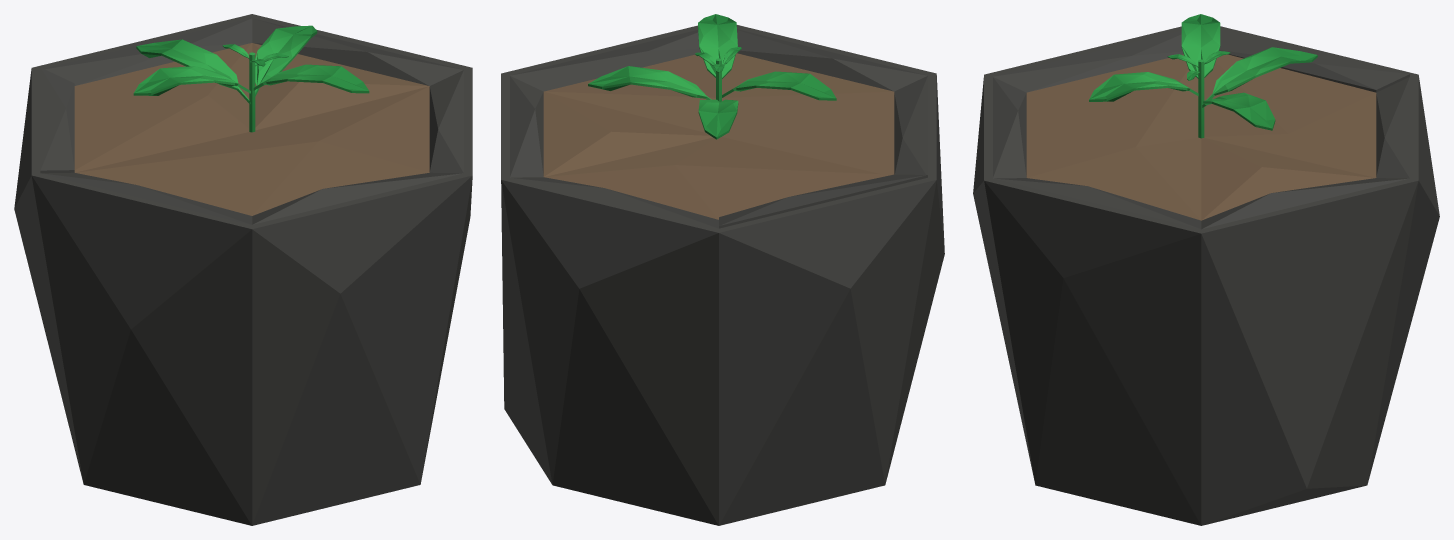
File: objWeedLevel02.fbx
The picture shows the model from 3 angles, left to right: view 1: azimuth 30°, elevation 25°; view 2: azimuth 150°, elevation 25°; view 3: azimuth 270°, elevation 25°; orthographic projection.
Parts seen in each view (by area): view 1: objWeedLevel02; view 2: objWeedLevel02; view 3: objWeedLevel02.
Part boxes in pixels (x1,y1,x2,y2): objWeedLevel02: (14, 14, 472, 525); objWeedLevel02: (501, 14, 944, 525); objWeedLevel02: (973, 14, 1439, 525).
Bounding box in the file's own units: 0.2762 × 0.2352 × 0.257.
Materials: 1 (1 with a texture image).
